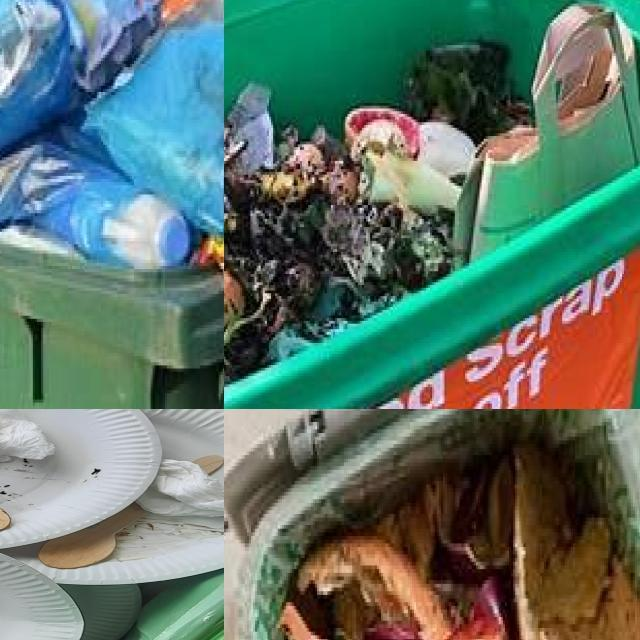Disposable: (0, 409, 163, 549), (2, 513, 224, 585), (139, 409, 224, 461)
Garbage: (224, 0, 640, 379), (281, 441, 640, 640), (0, 409, 224, 640)
Plastic: (228, 82, 273, 176)
Plastic_Bag: (455, 3, 640, 264), (404, 42, 533, 143), (418, 121, 476, 178)
